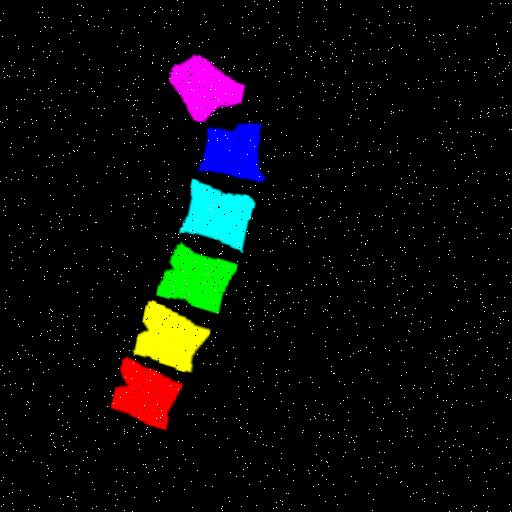L1: (109, 353, 180, 425)
L2: (132, 297, 209, 367)
L3: (155, 239, 236, 308)
L4: (179, 173, 253, 245)
L5: (198, 116, 263, 173)
S1: (168, 49, 243, 116)
